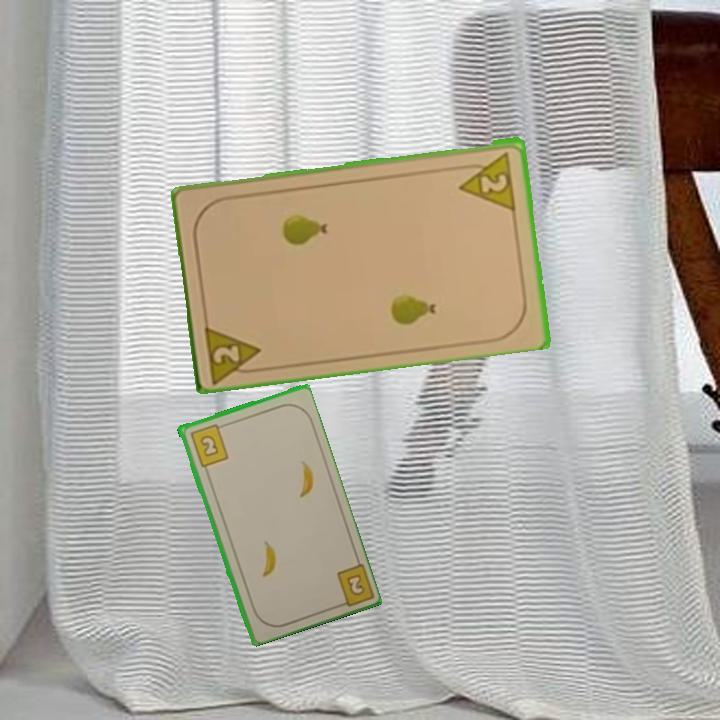2b: (331, 559, 375, 611), (186, 420, 231, 469)
2p: (201, 318, 268, 383), (454, 146, 519, 211)
